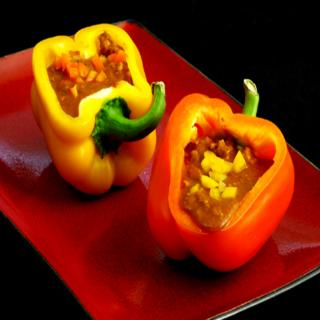Bell pepper: (148, 80, 295, 274), (32, 23, 166, 193)
